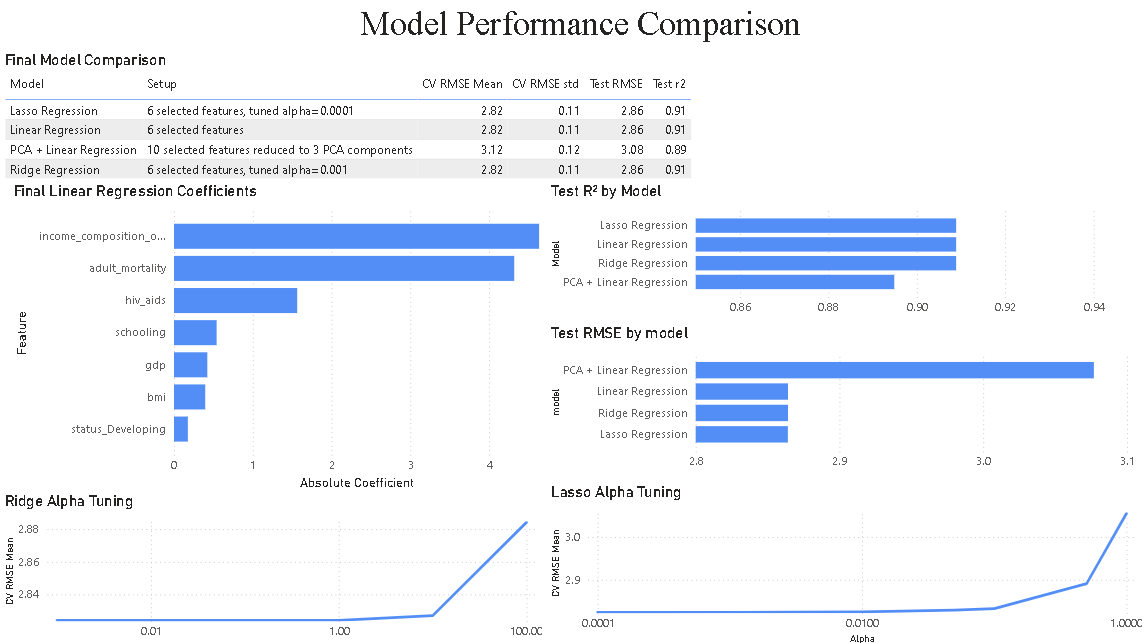

This screenshot's page, from the dashboard's own definition file:
{"tool":"powerbi","page":{"name":"Model Performance","canvas":[1280,720],"ordinal":1},"visuals":[{"type":"textbox","box":[10,0,1270,56.7],"z":0},{"type":"tableEx","title":"Final Model Comparison","fields":{"Values":["model_comparison.model","model_comparison.setup","Sum(model_comparison.cv_rmse_mean)","Sum(model_comparison.cv_rmse_std)","Sum(model_comparison.test_rmse)","Sum(model_comparison.test_r2)"]},"box":[0,56.7,791.7,150],"z":1},{"type":"clusteredBarChart","fields":{"Category":["model_comparison.model"],"Y":["Avg(model_comparison.test_rmse)"]},"box":[606.7,360,658.3,171.7],"z":2},{"type":"clusteredBarChart","title":"Test R² by Model","fields":{"Category":["model_comparison.model"],"Y":["Avg(model_comparison.test_r2)"]},"box":[606.7,201.7,673.3,158.3],"z":3},{"type":"lineChart","title":"Ridge Alpha Tuning","fields":{"Y":["Sum(ridge_alpha_tuning.cv_rmse_mean)"],"Category":["ridge_alpha_tuning.alpha"]},"box":[0,546.7,606.7,173.3],"z":4},{"type":"lineChart","title":"Lasso Alpha Tuning","fields":{"Category":["lasso_alpha_tuning.alpha"],"Y":["Sum(lasso_alpha_tuning.cv_rmse_mean)"]},"box":[606.7,536.7,666.7,183.3],"z":5},{"type":"clusteredBarChart","title":"Final Linear Regression Coefficients","fields":{"Category":["linear_regression_coefficients.feature"],"Y":["Sum(linear_regression_coefficients.absolute_coefficient)"]},"box":[10,201.7,596.7,346.7],"z":6}]}

Visuals, with their boxes in screenshot pixels (x1, y1, x2, y2), scaled from the page's 1280x720 canvas onto the 1147x643 screenshot:
textbox: 9:0:1146:51
"Final Model Comparison" tableEx: 0:51:709:185
clusteredBarChart - model_comparison.model x Avg(model_comparison.test_rmse): 544:322:1134:475
"Test R² by Model" clusteredBarChart: 544:180:1146:322
"Ridge Alpha Tuning" lineChart: 0:488:544:642
"Lasso Alpha Tuning" lineChart: 544:479:1141:642
"Final Linear Regression Coefficients" clusteredBarChart: 9:180:544:490
